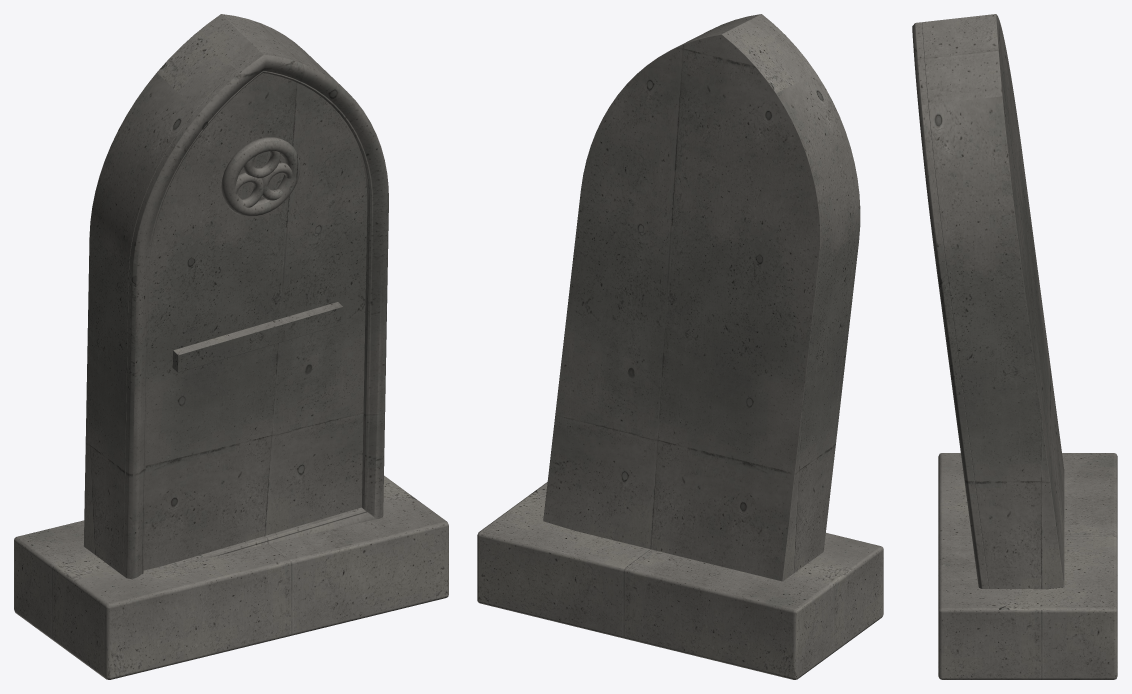
Rendered from Gravestone_B.gltf.
3 views of the same model, side by side, from view 1: azimuth 30°, elevation 25°; view 2: azimuth 150°, elevation 25°; view 3: azimuth 270°, elevation 25° (orthographic). The views are drawn at different scales.
Parts seen in each view (by area): view 1: Gravestone_B_Slab, Gravestone_B_Base; view 2: Gravestone_B_Slab, Gravestone_B_Base; view 3: Gravestone_B_Slab, Gravestone_B_Base.
Boxes of the visible parts, box(x1,y1,x2,y2) form: Gravestone_B_Slab: box(83, 14, 388, 578); Gravestone_B_Base: box(14, 475, 448, 679); Gravestone_B_Slab: box(543, 14, 860, 581); Gravestone_B_Base: box(477, 482, 883, 679); Gravestone_B_Slab: box(912, 14, 1064, 589); Gravestone_B_Base: box(938, 453, 1117, 679).
Size of what is drawn, in the model's own units: 0.75 by 1.28 by 0.4124.
1 material, 1 textured.
